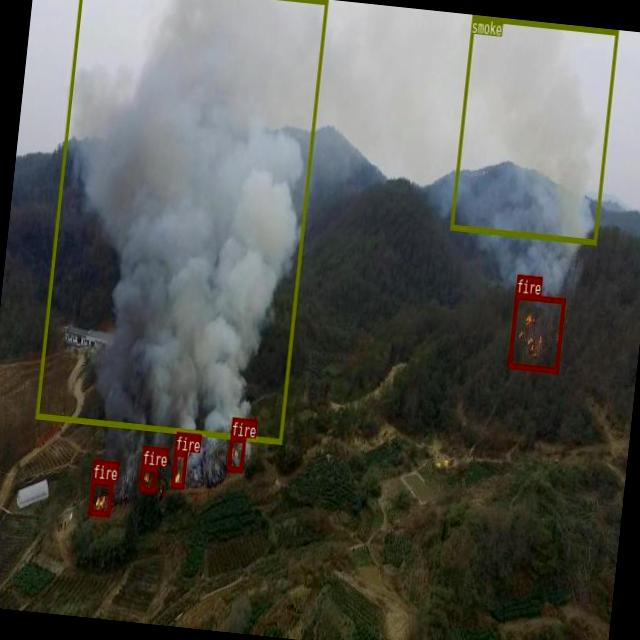fire: (506, 292, 566, 372), (88, 478, 113, 516), (170, 449, 187, 488), (226, 436, 245, 470), (138, 464, 158, 492)
smoke: (34, 0, 327, 442), (449, 15, 618, 244)
